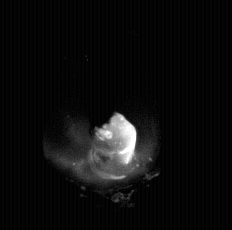arame: (91, 0, 115, 138)
poca: (43, 0, 161, 230)
